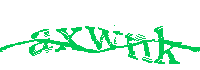a: (27, 29, 53, 57)
k: (152, 22, 181, 67)
n: (124, 31, 152, 63)
w: (85, 22, 123, 50)
x: (56, 24, 84, 53)
